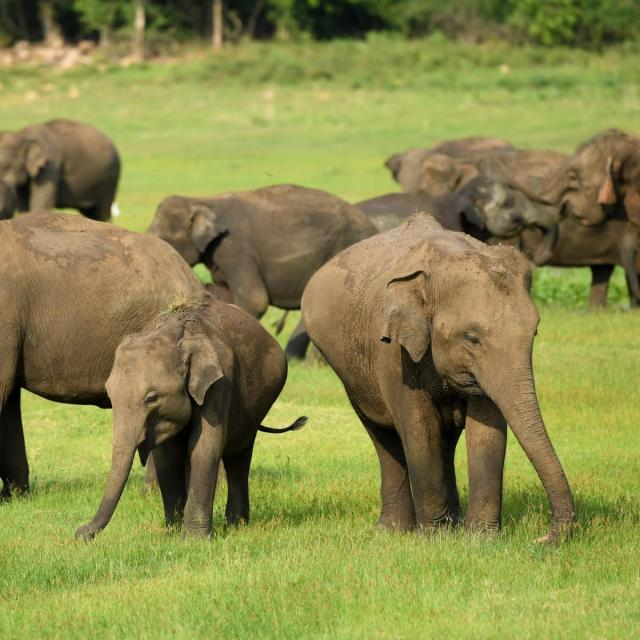Elephant: (303, 201, 594, 566), (69, 290, 297, 570), (389, 112, 640, 271), (151, 159, 367, 316), (0, 95, 142, 222)
